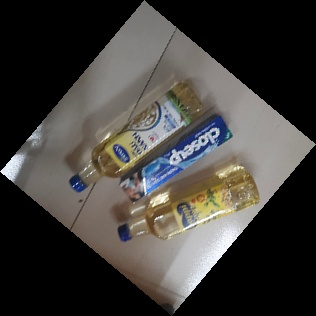CloseUp Tuyet: (117, 113, 234, 204)
Happy Soya: (118, 162, 259, 251)
Simply: (69, 80, 201, 192)
